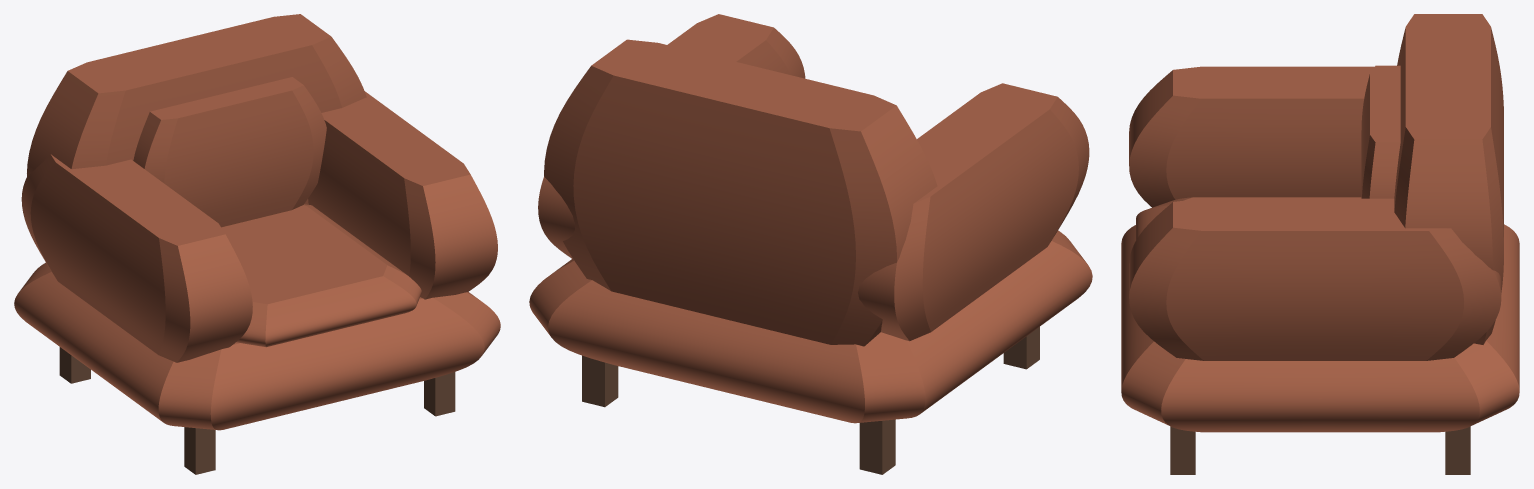
File: armchair.glb
3 views of the same model, side by side, from view 1: azimuth 30°, elevation 25°; view 2: azimuth 150°, elevation 25°; view 3: azimuth 270°, elevation 25° (orthographic). The views are drawn at different scales.
Parts seen in each view (by area): view 1: Upholstered base.001, Padded arm.002, Upholstered back.001, Padded arm.003, Back cushion.003, Seat cushion.003, Leg.004, Leg.006, Leg.005; view 2: Upholstered back.001, Upholstered base.001, Padded arm.002, Padded arm.003, Leg.005, Leg.007, Leg.004; view 3: Padded arm.003, Upholstered base.001, Padded arm.002, Upholstered back.001, Back cushion.003, Leg.006, Leg.007, Seat cushion.003.
Boxes of the visible parts, x1=… form: Upholstered base.001: x1=14, y1=262, x2=500, y2=430; Padded arm.002: x1=21, y1=154, x2=252, y2=362; Upholstered back.001: x1=27, y1=14, x2=366, y2=204; Padded arm.003: x1=308, y1=91, x2=497, y2=299; Back cushion.003: x1=133, y1=77, x2=326, y2=227; Seat cushion.003: x1=221, y1=204, x2=421, y2=347; Leg.004: x1=184, y1=427, x2=215, y2=474; Leg.006: x1=424, y1=372, x2=455, y2=416; Leg.005: x1=59, y1=347, x2=90, y2=383; Upholstered back.001: x1=544, y1=39, x2=937, y2=346; Upholstered base.001: x1=529, y1=230, x2=1092, y2=423; Padded arm.002: x1=858, y1=83, x2=1089, y2=341; Padded arm.003: x1=538, y1=14, x2=805, y2=258; Leg.005: x1=859, y1=419, x2=895, y2=474; Leg.007: x1=582, y1=355, x2=618, y2=407; Leg.004: x1=1003, y1=327, x2=1039, y2=369; Padded arm.003: x1=1129, y1=198, x2=1501, y2=360; Upholstered base.001: x1=1121, y1=224, x2=1519, y2=432; Padded arm.002: x1=1129, y1=66, x2=1374, y2=207; Upholstered back.001: x1=1394, y1=14, x2=1503, y2=344; Back cushion.003: x1=1361, y1=65, x2=1400, y2=198; Leg.006: x1=1170, y1=426, x2=1195, y2=474; Leg.007: x1=1445, y1=426, x2=1470, y2=474; Seat cushion.003: x1=1136, y1=197, x2=1361, y2=240.
Size of the model in its own units: 0.9997 by 0.83 by 0.9128.
